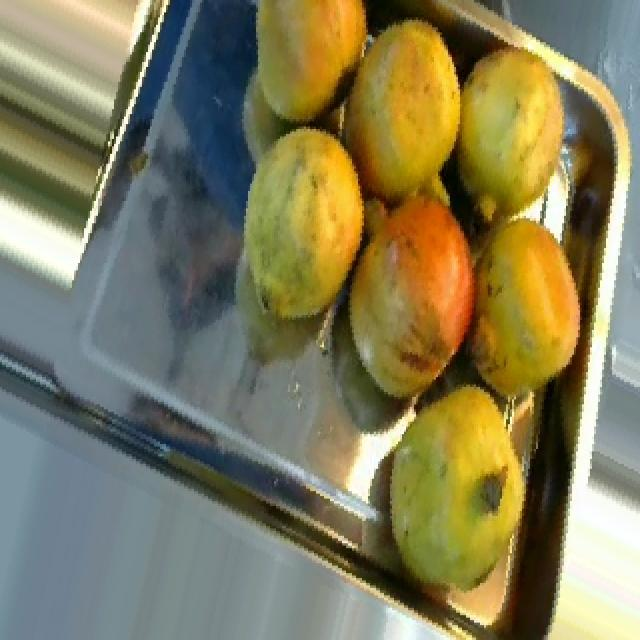fruit: (316, 168, 506, 432), (226, 102, 386, 345), (316, 0, 484, 223), (222, 0, 392, 141)
